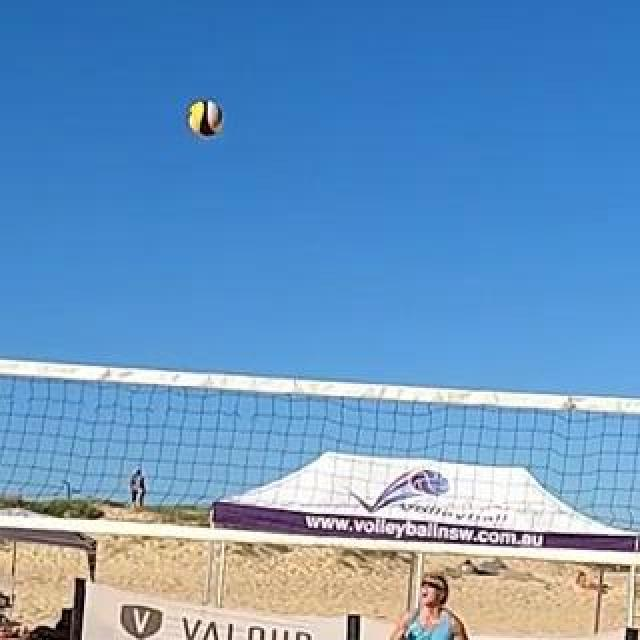volleyball: (187, 99, 221, 133)
